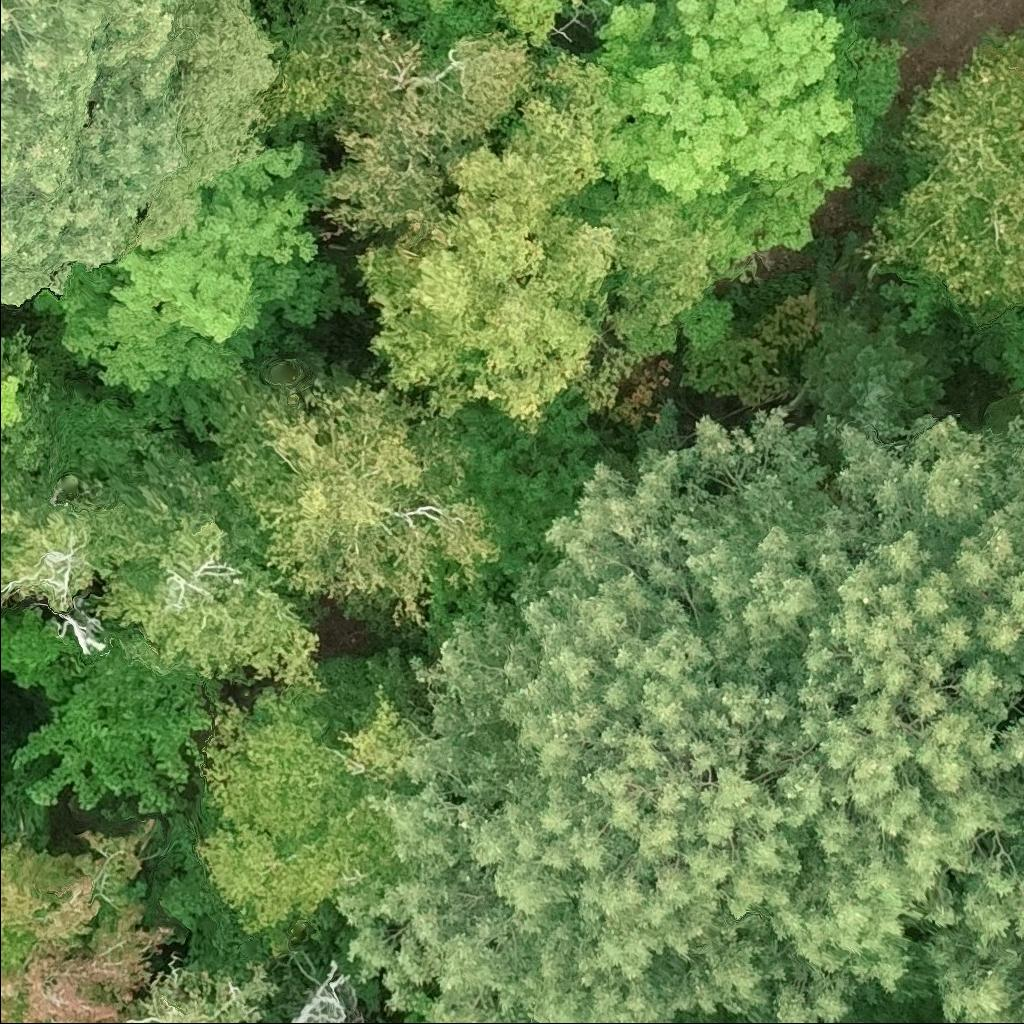crown: (333, 396, 1023, 1023), (353, 53, 625, 436), (31, 138, 367, 444), (204, 356, 506, 626), (578, 0, 864, 272), (193, 646, 426, 954), (0, 0, 193, 306), (813, 392, 1023, 673), (320, 1, 546, 240), (849, 25, 1023, 322), (89, 480, 332, 688), (907, 689, 1023, 1023), (8, 638, 213, 821), (0, 820, 178, 1023), (800, 291, 961, 432), (596, 199, 730, 325), (261, 0, 371, 146), (366, 0, 589, 68), (766, 971, 924, 1023), (0, 368, 25, 429), (0, 743, 6, 787), (894, 0, 904, 4)
